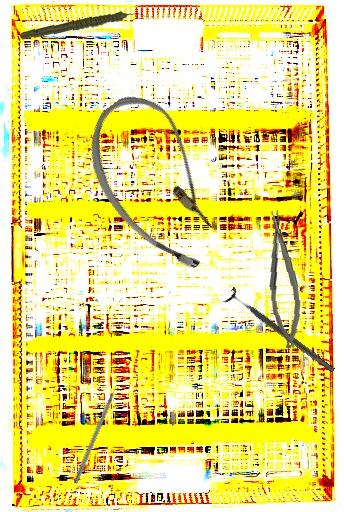Cannula: (63, 81, 253, 285)
Fixation Ring: (222, 285, 340, 380)
Handpiece: (20, 4, 145, 48)
Hook Surgical: (72, 375, 124, 485)
Needle Holder: (264, 209, 304, 349)
